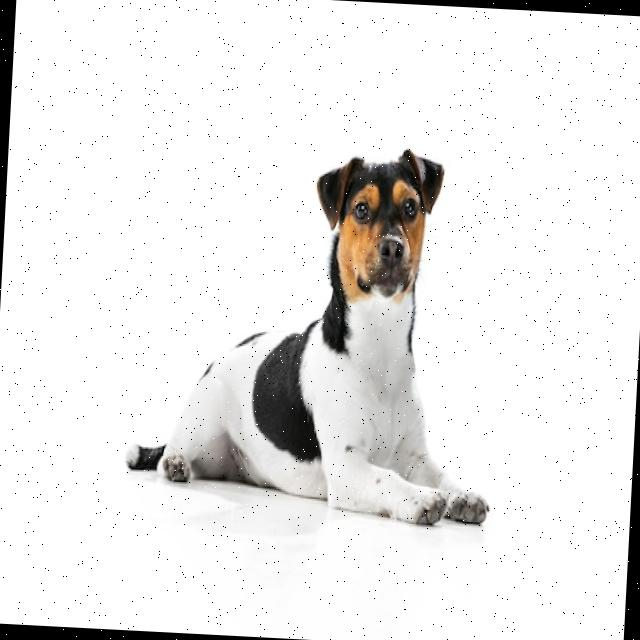Dog: (123, 134, 510, 530)
